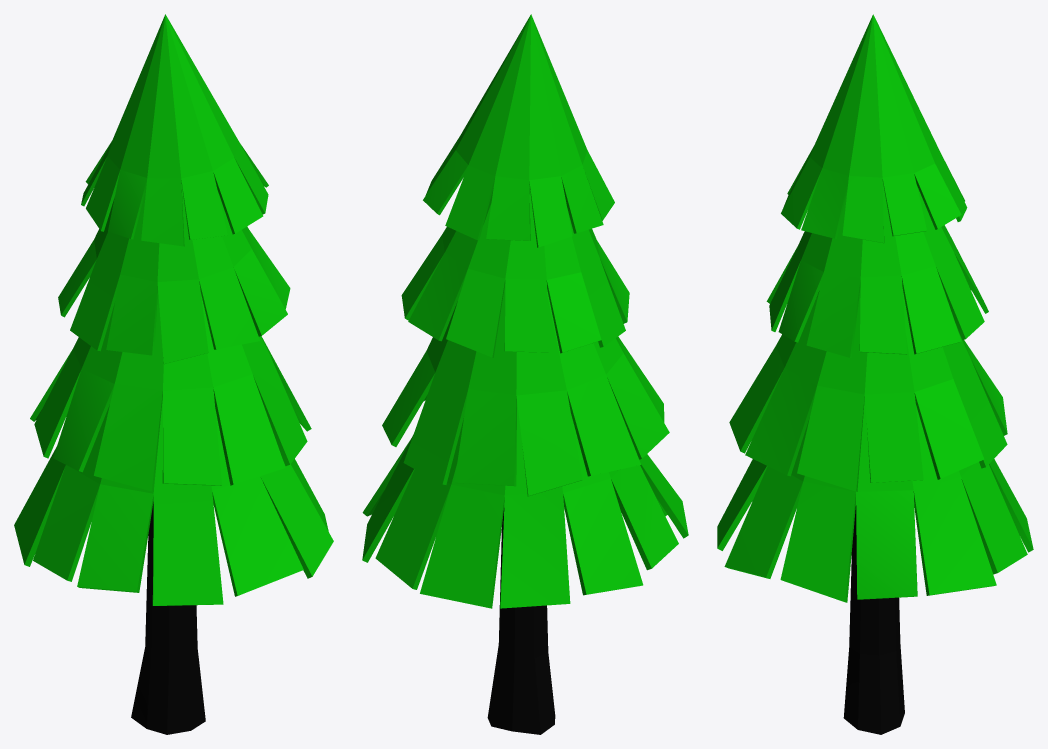
The model's file is spruce.obj.
3 views of the same model, side by side, from view 1: azimuth 30°, elevation 25°; view 2: azimuth 150°, elevation 25°; view 3: azimuth 270°, elevation 25° (orthographic).
Parts seen in each view (by area): view 1: spruce_Mesh.001; view 2: spruce_Mesh.001; view 3: spruce_Mesh.001.
Part boxes in pixels (x1,y1,x2,y2): spruce_Mesh.001: (14, 14, 333, 734); spruce_Mesh.001: (362, 14, 688, 734); spruce_Mesh.001: (717, 14, 1033, 734).
Size of the model in its own units: 3 by 7.46 by 3.05.
